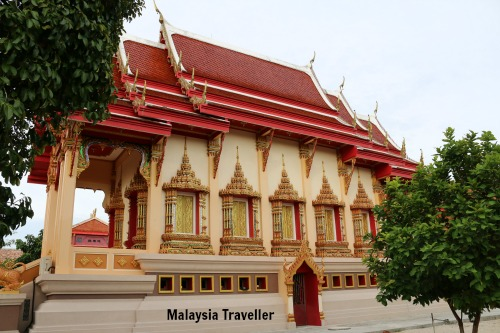Buddhist Temple: (36, 12, 409, 272)
